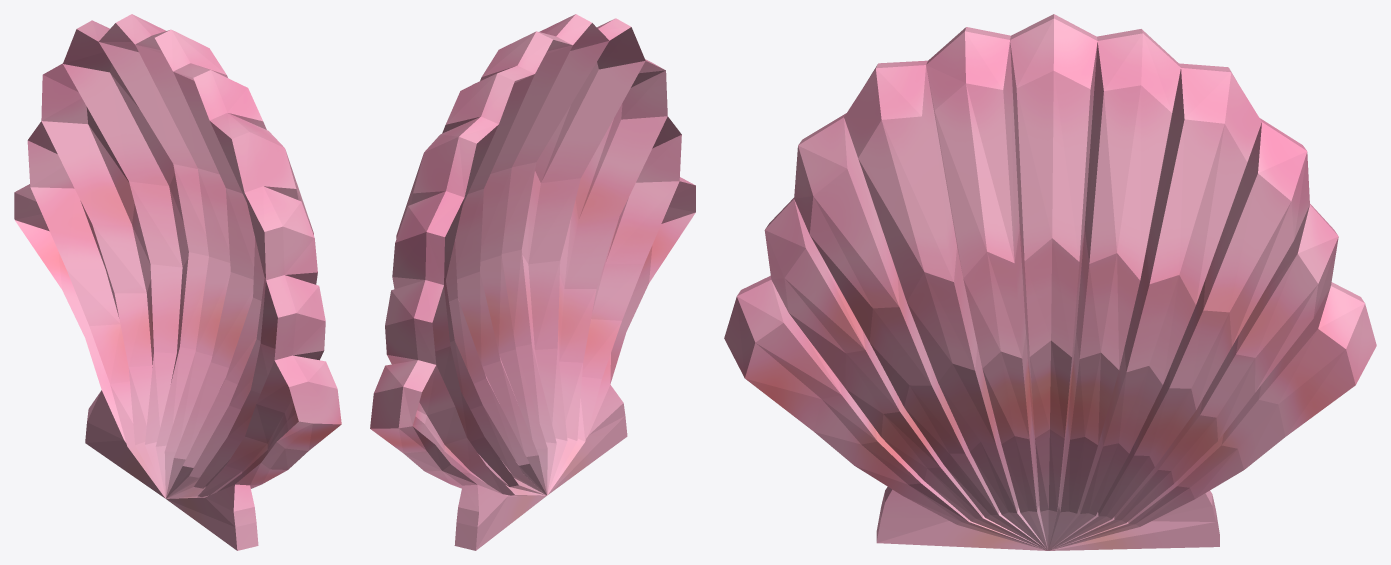
Rendered from ShellOil.glb.
3 renders of one model, left to right at view 1: azimuth 30°, elevation 25°; view 2: azimuth 150°, elevation 25°; view 3: azimuth 270°, elevation 25°, orthographic. The views are drawn at different scales.
Visible parts, largest first — view 1: Node; view 2: Node; view 3: Node.
Part boxes in pixels (left/top/right/bottom): Node: left=14, top=14, right=341, bottom=550; Node: left=370, top=14, right=695, bottom=550; Node: left=724, top=14, right=1376, bottom=550.
Bounding box in the file's own units: 0.3657 × 1.43 × 1.61.
1 material, 1 textured.
